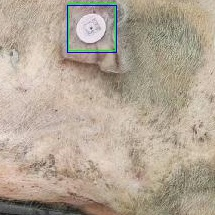text: (68, 3, 115, 50)
